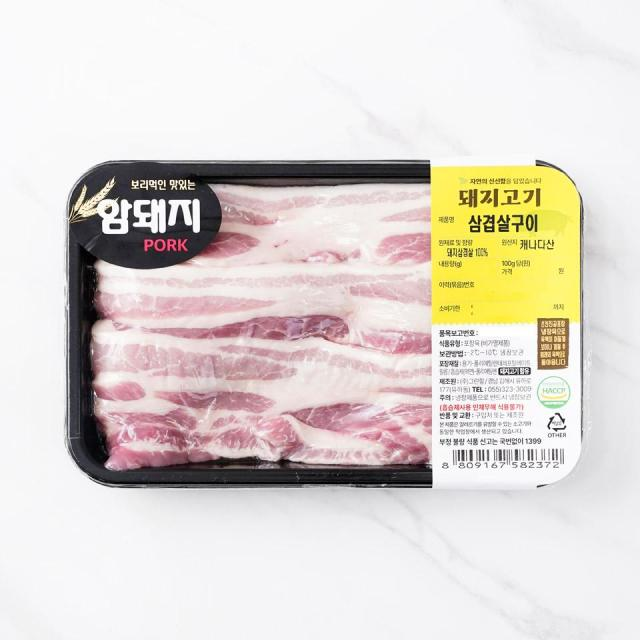pork: (47, 133, 594, 498)
